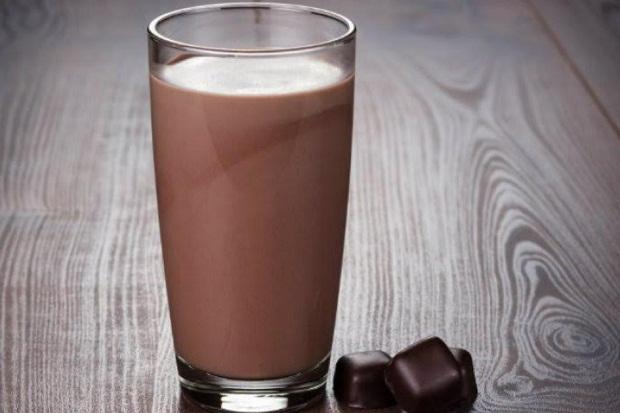produk_susu: (177, 14, 335, 369)
